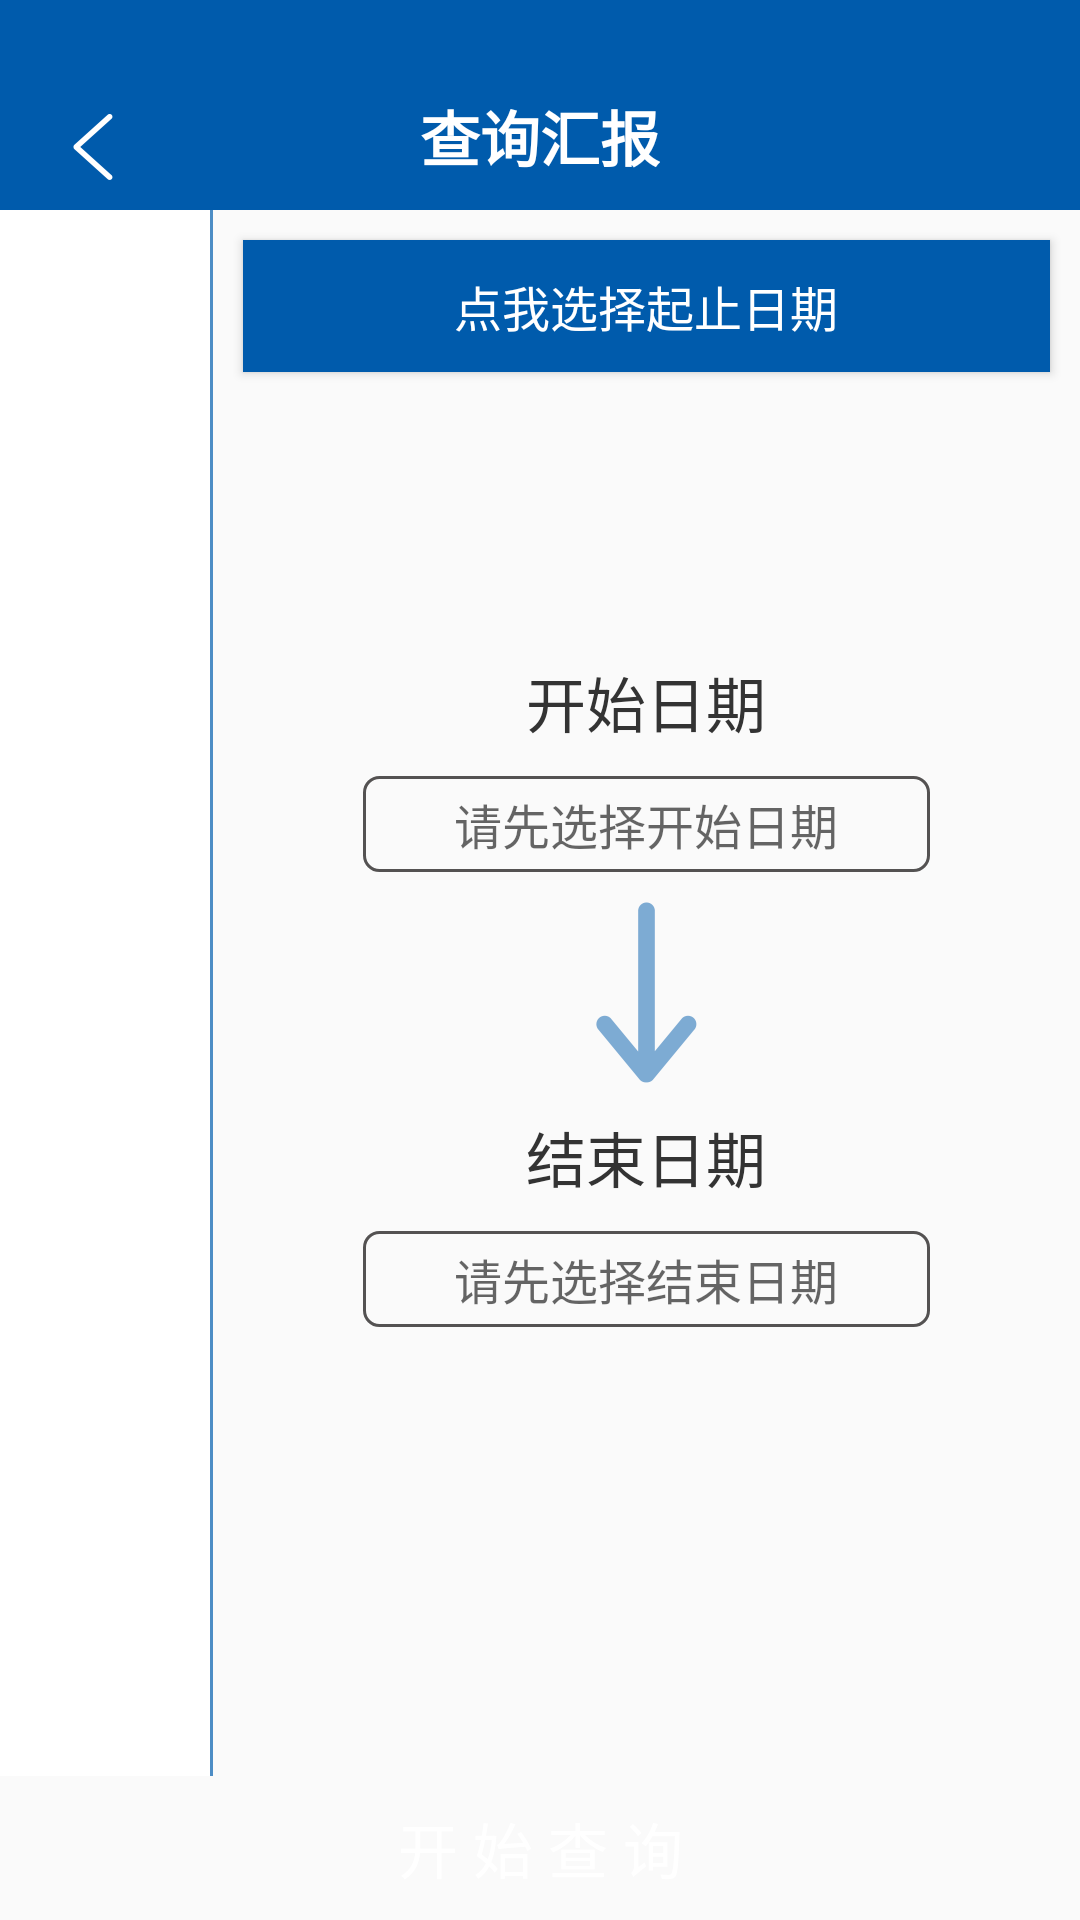

Icons on this 1080w x 1920h Android screen, each with the point to tap as [x,y]:
huibao fanhui: [93,147]
